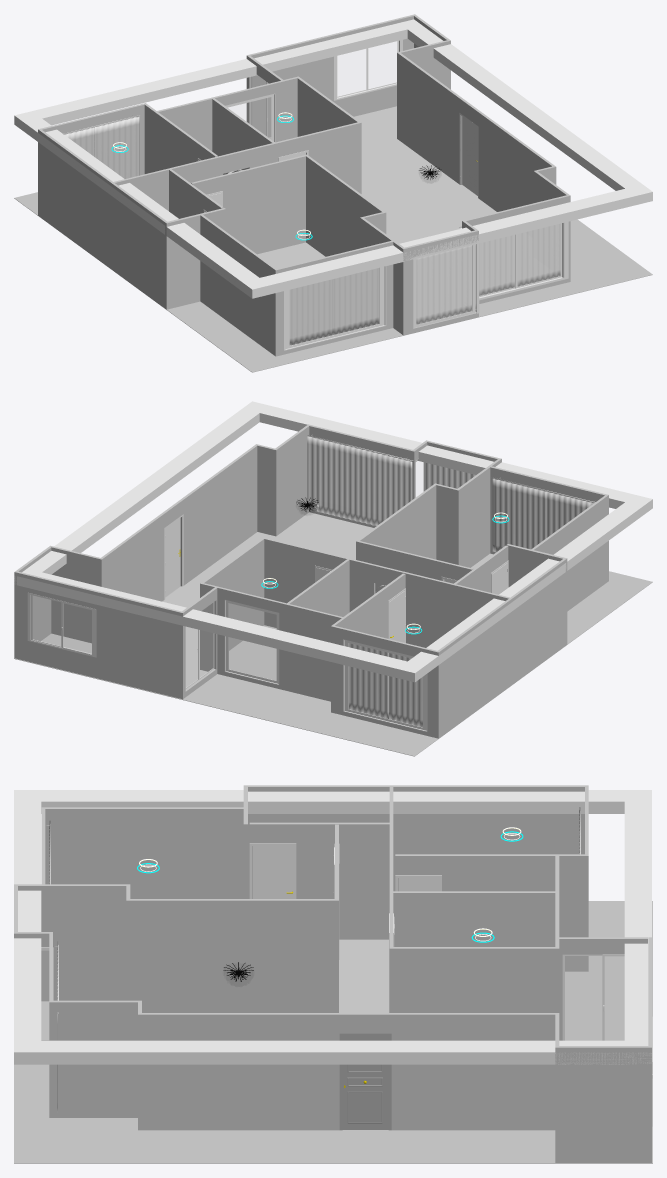
File: 中航城_ThreeJS.glb
The picture shows the model from 3 angles, top to bottom: view 1: azimuth 30°, elevation 25°; view 2: azimuth 150°, elevation 25°; view 3: azimuth 270°, elevation 25°; orthographic projection. The views are drawn at different scales.
Parts seen in each view (by area): view 1: 导出_合并墙体, Perimeter_Ceiling, 地面_重绘, 主卧_固定窗_08, 生活阳台_窗帘部件_04, 生活阳台_窗帘部件_07, 生活阳台_固定窗_07, 主卧_窗帘部件_08_02, 主卧_窗帘部件_08, 次卧_窗帘部件_09_02, 生活阳台_推拉窗_05, 生活阳台_推拉窗_04 (+8 smaller); view 2: 导出_合并墙体, Perimeter_Ceiling, 地面_重绘, 生活阳台_窗帘部件_04, 主卧_窗帘部件_08_02, 次卧_固定窗_09, 书房_固定窗_10, 次卧_窗帘部件_09_02, 次卧_窗帘部件_09, 露台_推拉窗_01, 露台_推拉窗_11, 主卧_窗帘部件_08 (+8 smaller); view 3: 导出_合并墙体, Perimeter_Ceiling, 地面_重绘, 书房_推拉窗_03, 客厅_门_03, 主卫_门_01, 书房_推拉窗_02, 厨房_门窗框_03, 生活阳台_固定窗_06, 主卫_门_06, 主卧_门窗框_01.
Boxes of the visible parts, <box> form: 导出_合并墙体: <box>38,14,570,356</box>; Perimeter_Ceiling: <box>14,19,652,298</box>; 地面_重绘: <box>14,106,652,372</box>; 主卧_固定窗_08: <box>290,268,378,344</box>; 生活阳台_窗帘部件_04: <box>460,223,560,295</box>; 生活阳台_窗帘部件_07: <box>416,244,476,324</box>; 生活阳台_固定窗_07: <box>417,246,471,323</box>; 主卧_窗帘部件_08_02: <box>332,268,379,334</box>; 主卧_窗帘部件_08: <box>289,279,332,345</box>; 次卧_窗帘部件_09_02: <box>95,116,139,178</box>; 生活阳台_推拉窗_05: <box>518,224,559,285</box>; 生活阳台_推拉窗_04: <box>479,235,514,296</box>; 导出_合并墙体: <box>14,424,608,738</box>; Perimeter_Ceiling: <box>14,401,652,682</box>; 地面_重绘: <box>14,501,652,756</box>; 生活阳台_窗帘部件_04: <box>307,436,412,525</box>; 主卧_窗帘部件_08_02: <box>492,478,546,552</box>; 次卧_固定窗_09: <box>349,644,422,726</box>; 书房_固定窗_10: <box>229,604,275,679</box>; 次卧_窗帘部件_09_02: <box>349,643,388,718</box>; 次卧_窗帘部件_09: <box>389,653,422,727</box>; 露台_推拉窗_01: <box>31,595,61,647</box>; 露台_推拉窗_11: <box>61,604,91,653</box>; 主卧_窗帘部件_08: <box>546,491,593,537</box>; 导出_合并墙体: <box>14,785,651,1162</box>; Perimeter_Ceiling: <box>14,790,651,1064</box>; 地面_重绘: <box>14,901,652,1163</box>; 书房_推拉窗_03: <box>562,954,602,1040</box>; 客厅_门_03: <box>342,1036,388,1129</box>; 主卫_门_01: <box>253,846,293,898</box>; 书房_推拉窗_02: <box>602,954,624,1040</box>; 厨房_门窗框_03: <box>339,1033,391,1130</box>; 生活阳台_固定窗_06: <box>42,951,48,1038</box>; 主卫_门_06: <box>398,878,438,891</box>; 主卧_门窗框_01: <box>249,843,296,898</box>.
Size of what is drawn, in the model's own units: 365 by 75.3 by 376.
Materials: 17 (1 with a texture image).
